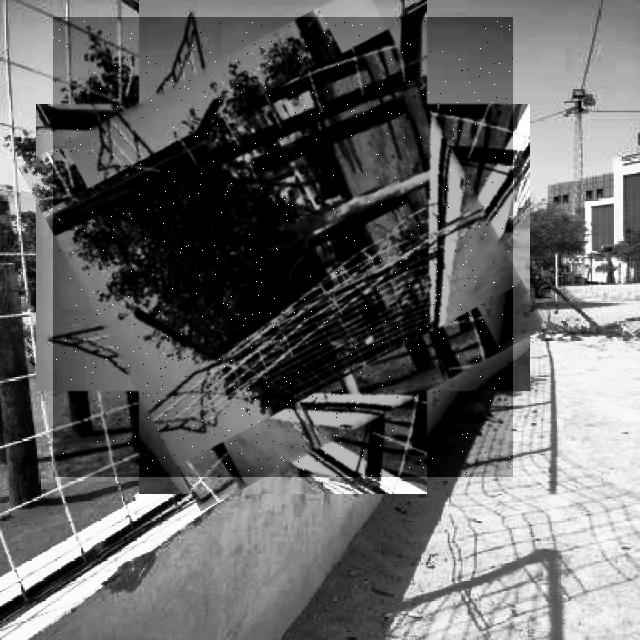anomaly-fence: (53, 17, 513, 477)
